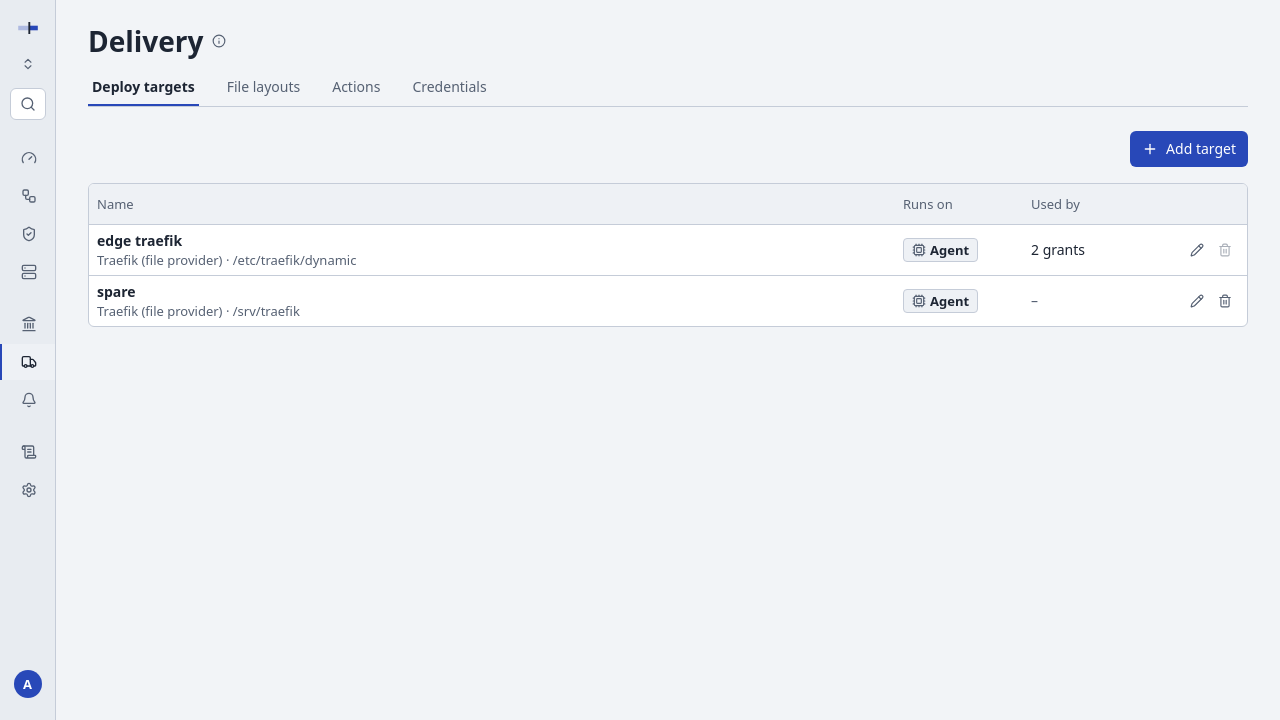
Scenario: shows a raced 409 inside the delete dialog
Click the button named "Delete spare": (1225, 300) [1211, 286, 1239, 314]
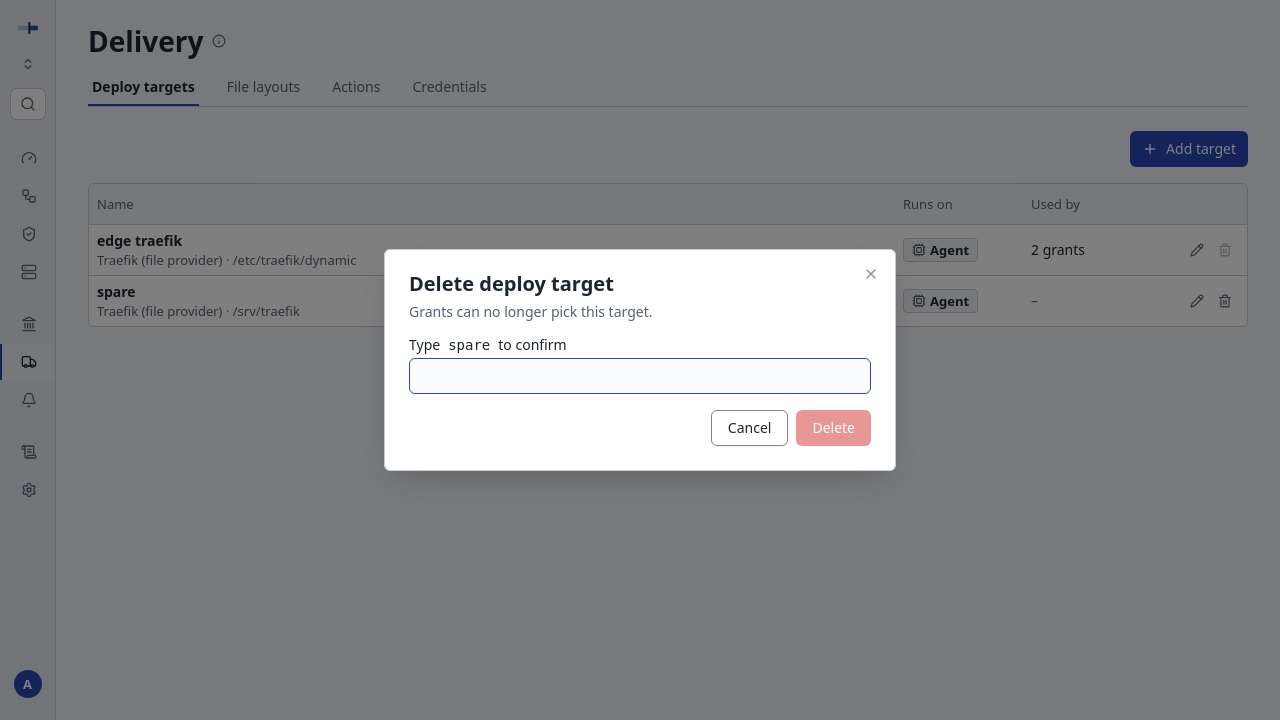
In the field labelled "Type spare to confirm": (640, 376) [409, 358, 871, 394], type "spare"
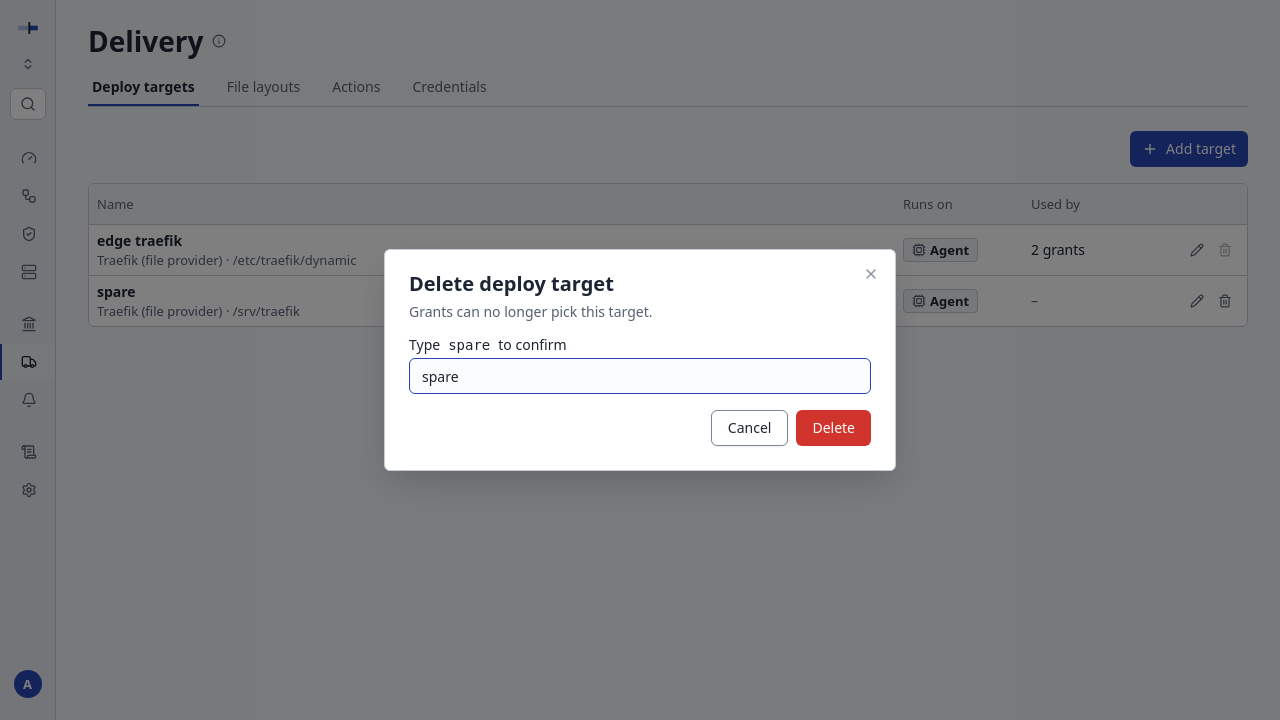
Click the button "Delete": (834, 428) [796, 410, 871, 446]
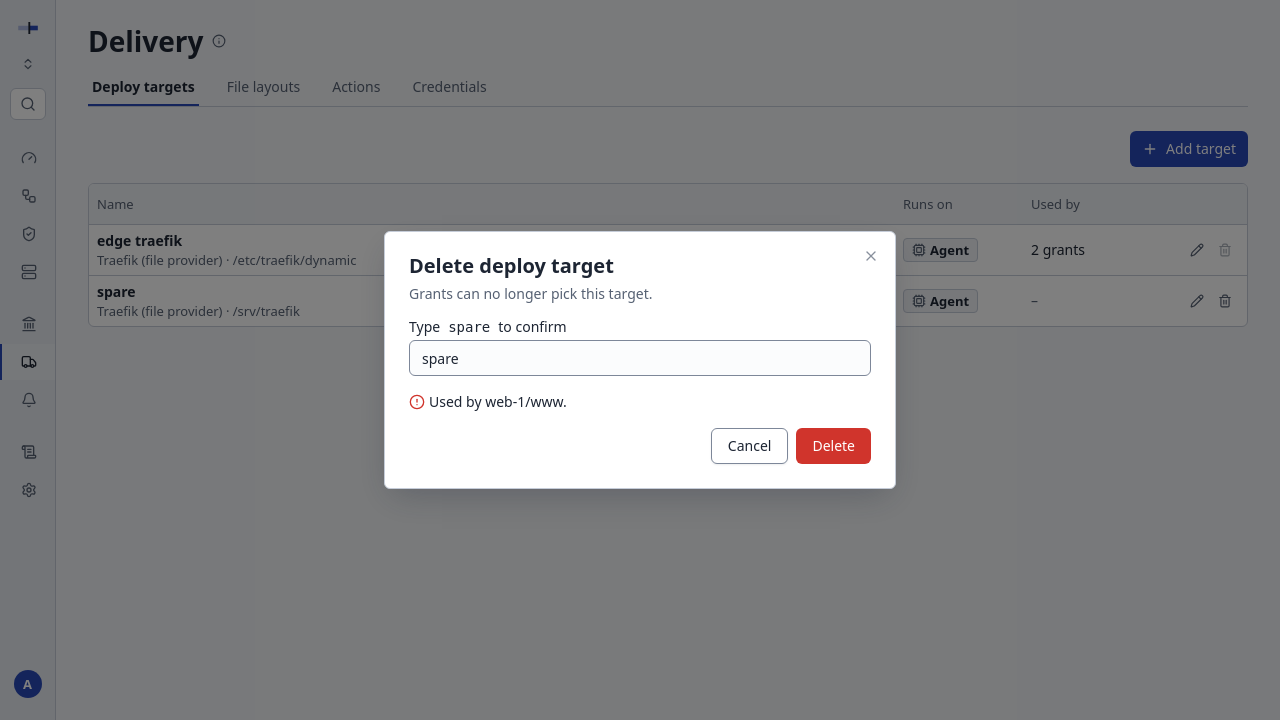
Expected: the text "Used by web-1/www." is shown, [409, 392, 567, 411]
